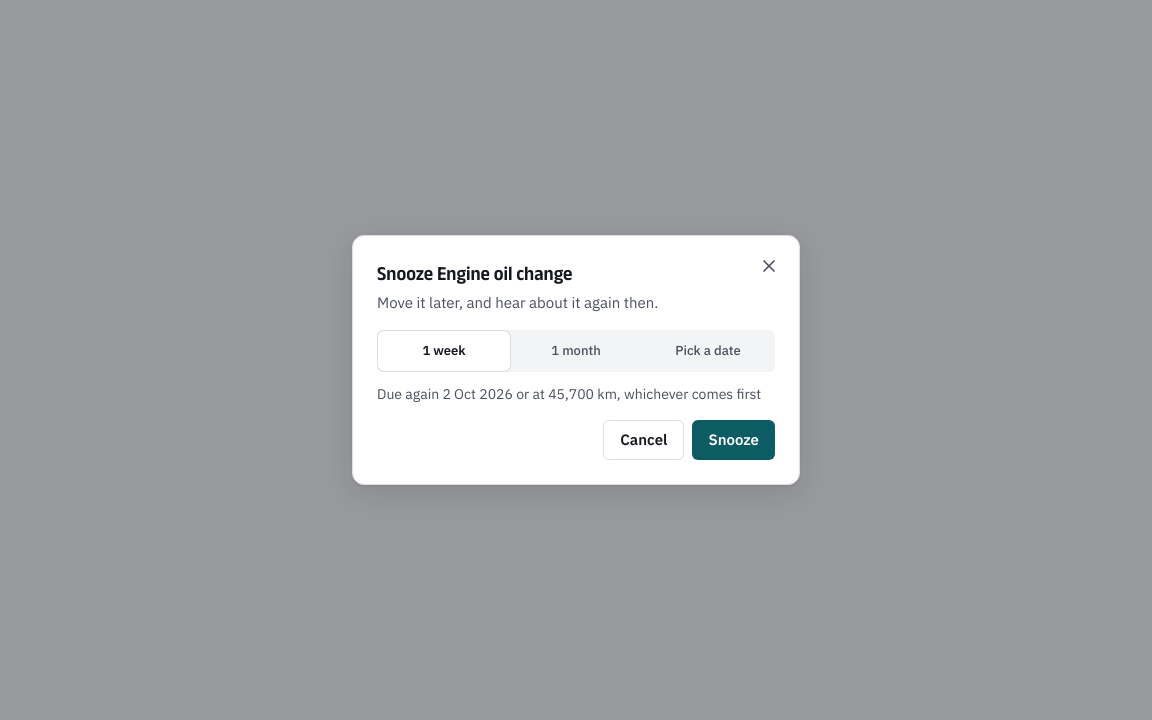
Test: SnoozeReminderDialog › offers a week, a month or a date, previewing where the reminder lands
This screenshot has width=1152, height=720.
Expected: the dialog "Snooze Engine oil change" is shown, [352,235,800,485]
Expected: the text with test id "snooze-preview" reads "Due again 2 Oct 2026 or at 45,700 km, whichever comes first", [377,385,761,403]
Click the radio button labelled "1 month": (576, 351) [512,333,640,369]
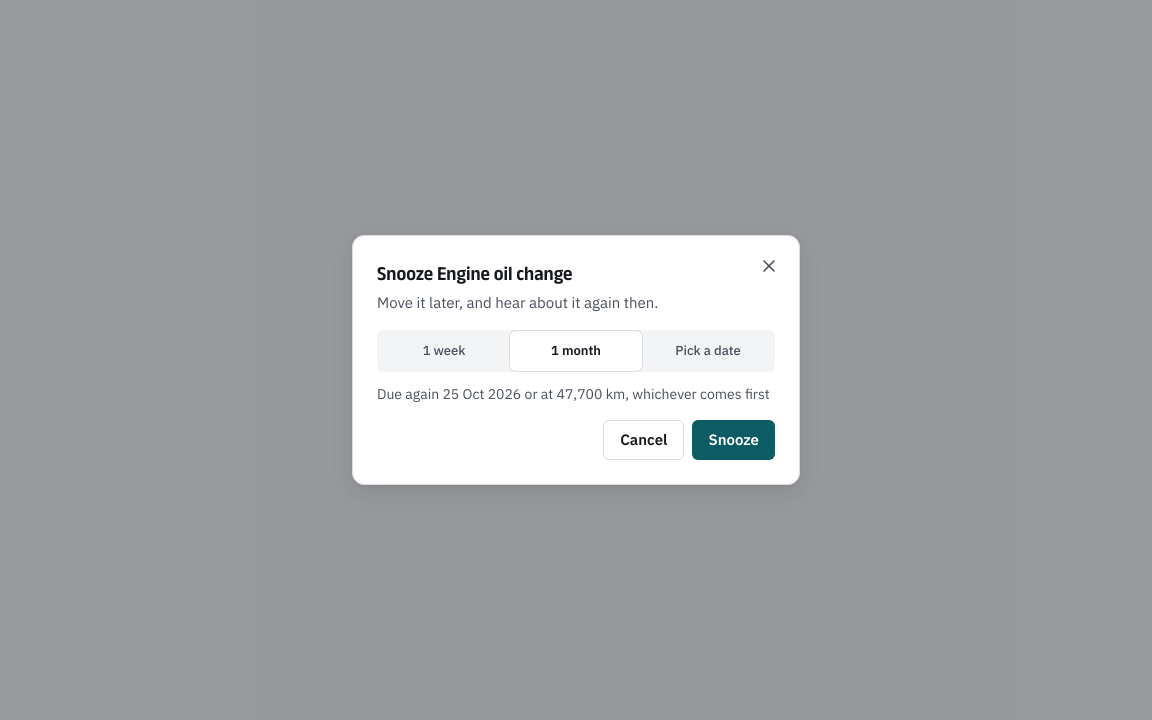
Expected: the text with test id "snooze-preview" reads "Due again 25 Oct 2026 or at 47,700 km, whichever comes first", [377,385,770,403]
Click the radio button labelled "Pick a date": (708, 351) [644,333,772,369]
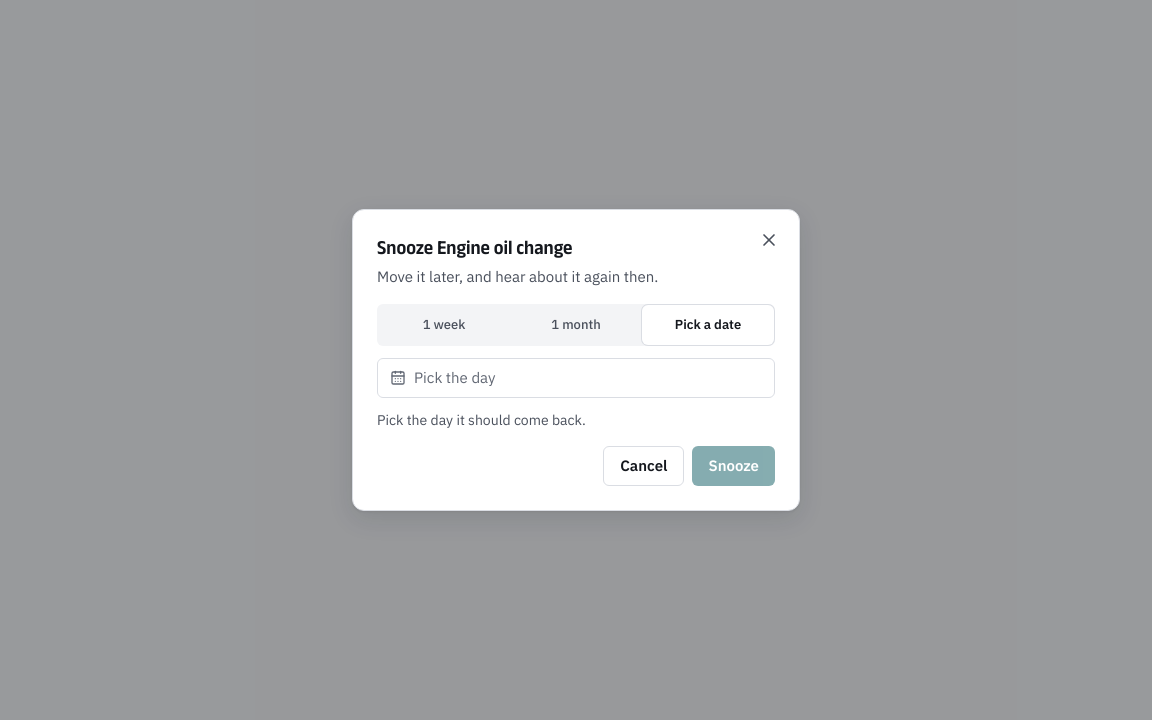
Expected: the text with test id "snooze-preview" reads "Pick the day it should come back.", [377,411,586,429]
Expected: the button "Snooze" is disabled, [692,446,775,486]
